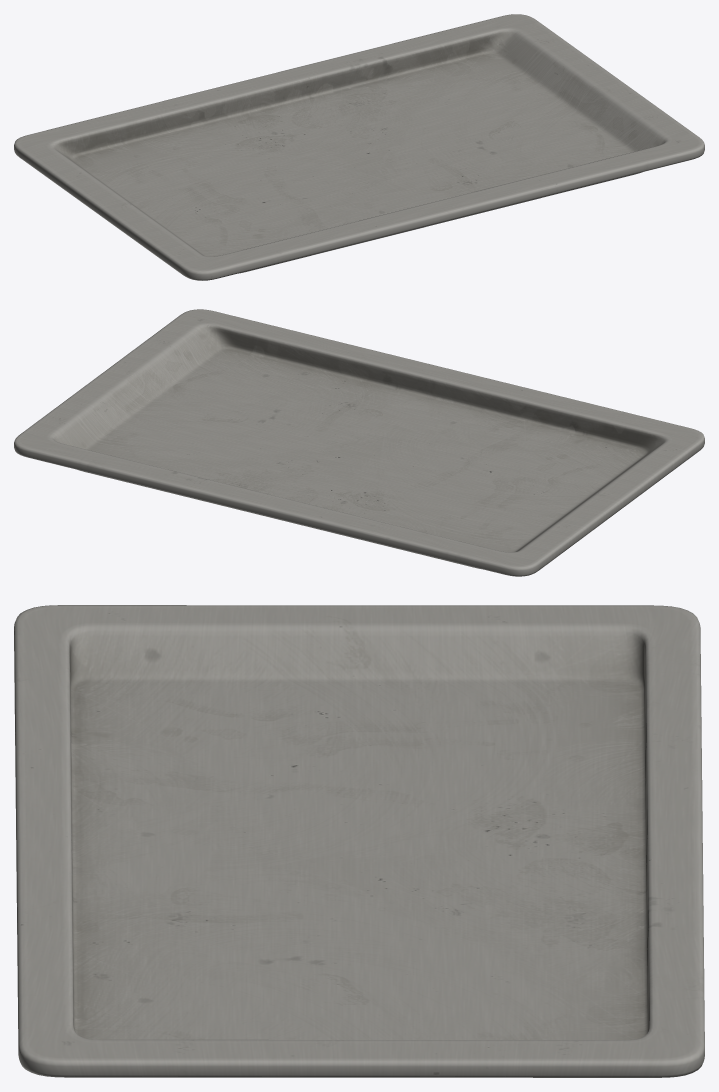
The model's file is metal_food_tray.glb.
The picture shows the model from 3 angles, top to bottom: view 1: azimuth 30°, elevation 25°; view 2: azimuth 150°, elevation 25°; view 3: azimuth 270°, elevation 25°; orthographic projection. The views are drawn at different scales.
Parts seen in each view (by area): view 1: Food_Tray; view 2: Food_Tray; view 3: Food_Tray.
Boxes of the visible parts, left/top/right/bottom form: Food_Tray: left=14, top=14, right=704, bottom=280; Food_Tray: left=14, top=309, right=704, bottom=576; Food_Tray: left=14, top=605, right=704, bottom=1077.
Bounding box in the file's own units: 0.5914 × 0.028 × 0.3724.
1 material, 1 textured.
